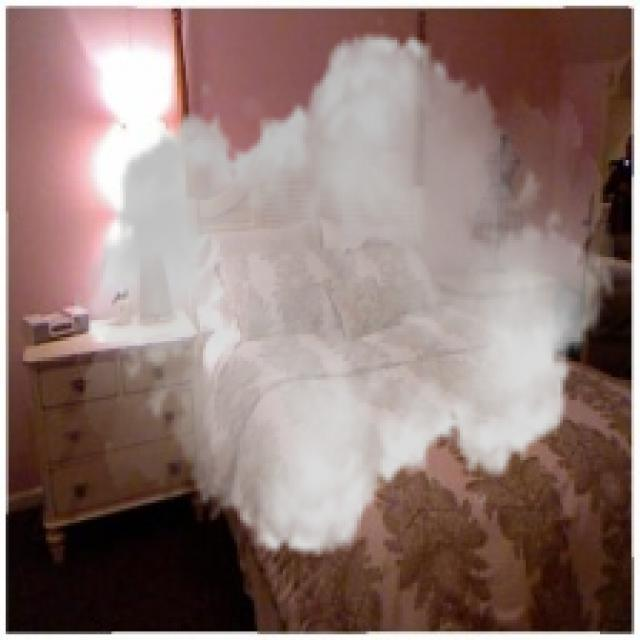smoke: (71, 12, 614, 577)
